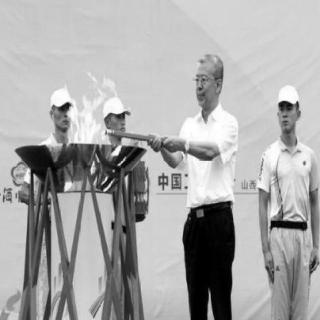Fire: (42, 78, 146, 185)
